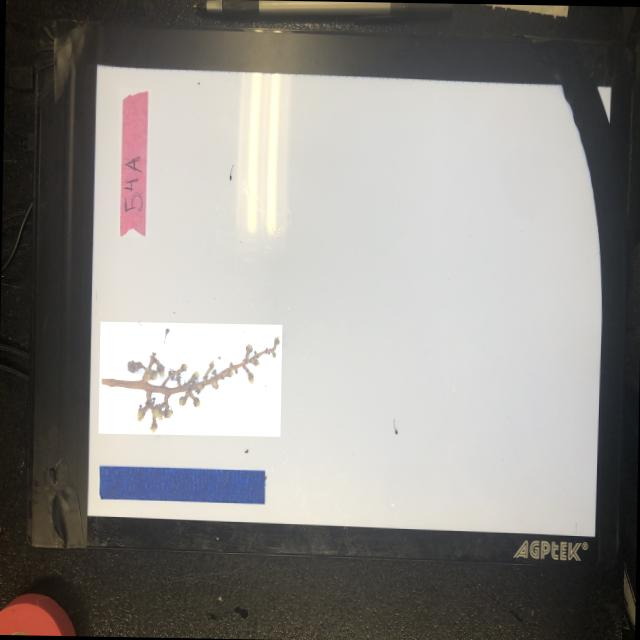index: (116, 86, 151, 236)
measure_label: (96, 464, 266, 499)
rachis_cluster: (98, 320, 282, 435)
